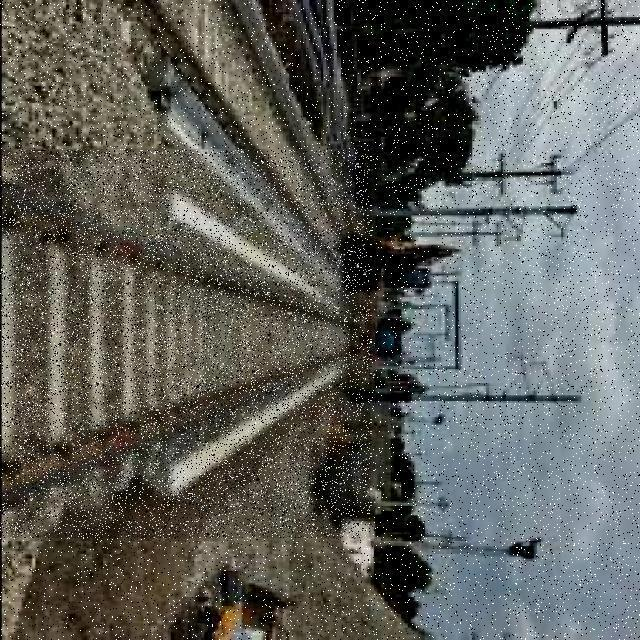rail: (4, 151, 372, 539), (77, 1, 356, 282)
